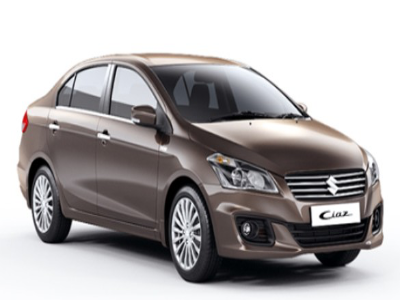licence: (308, 202, 360, 221)
